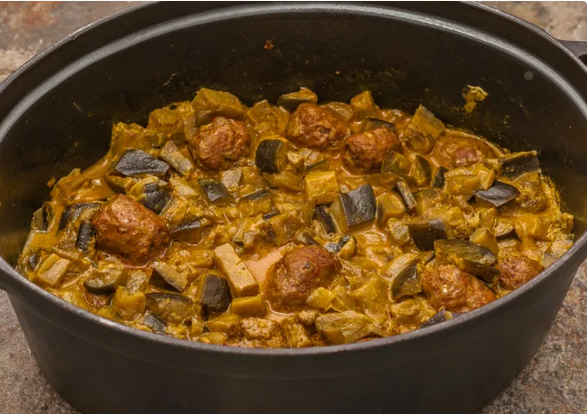aubergines: (217, 168, 395, 239)
boulettes boeuf: (93, 201, 161, 253)
